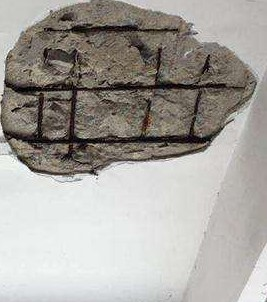Exposed reinforcement: (3, 78, 247, 96), (2, 129, 214, 144), (140, 48, 162, 136), (188, 53, 211, 136), (43, 23, 180, 34), (62, 85, 78, 162), (37, 92, 45, 139)
Spalling: (1, 1, 258, 184)
